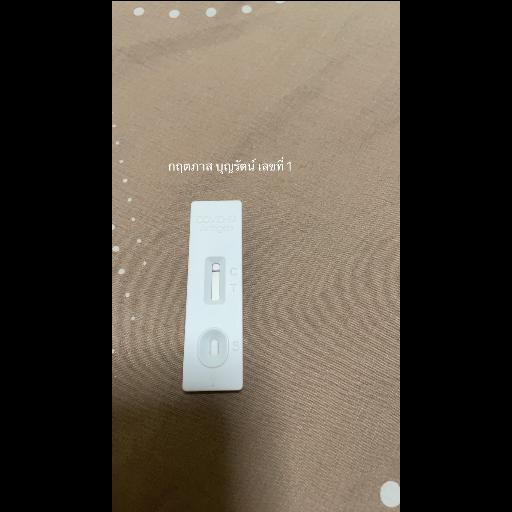Neg: (181, 199, 243, 392)
